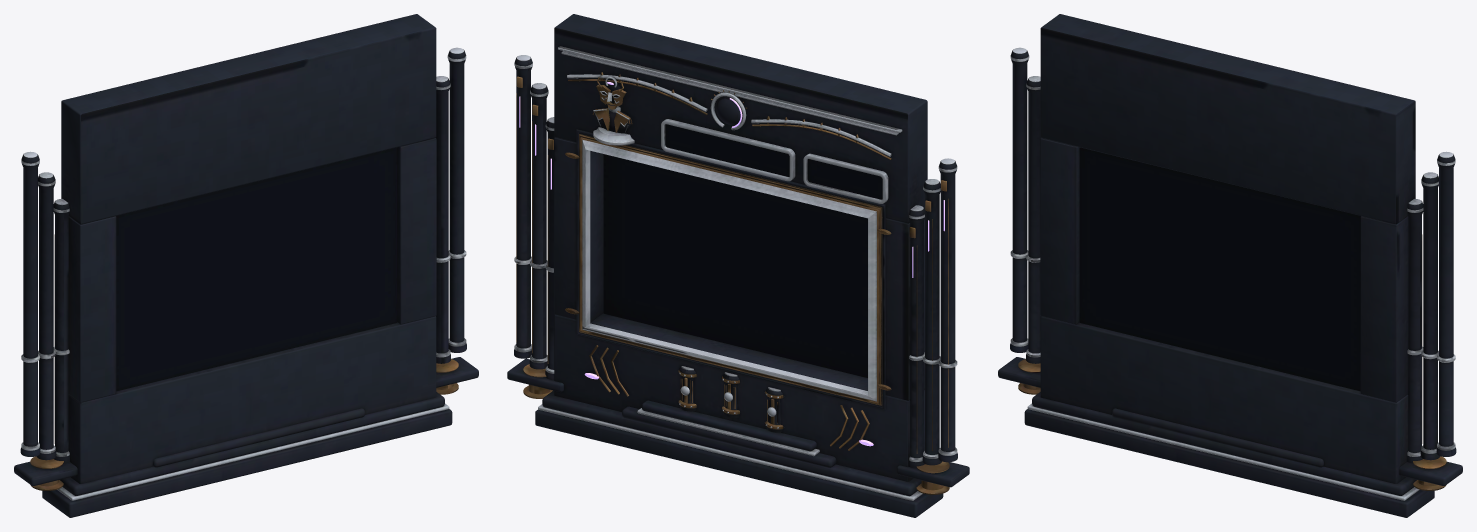
The picture shows the model from 3 angles, left to right: view 1: azimuth 30°, elevation 25°; view 2: azimuth 150°, elevation 25°; view 3: azimuth 330°, elevation 25°; orthographic projection.
Parts seen in each view (by area): view 1: Obsidian_enamel, Uniform_display_charcoal, Brushed_platinum, Chased_antique_brass; view 2: Obsidian_enamel, Uniform_display_charcoal, Brushed_platinum, Chased_antique_brass, Eclipse_violet_glow; view 3: Obsidian_enamel, Uniform_display_charcoal, Brushed_platinum, Chased_antique_brass.
Boxes of the visible parts, x1,y1,x2,y2 form: Obsidian_enamel: [14, 14, 478, 517]; Uniform_display_charcoal: [116, 147, 397, 391]; Brushed_platinum: [21, 47, 466, 500]; Chased_antique_brass: [30, 234, 458, 490]; Obsidian_enamel: [507, 14, 969, 517]; Uniform_display_charcoal: [602, 92, 882, 377]; Brushed_platinum: [514, 46, 957, 500]; Chased_antique_brass: [516, 72, 949, 494]; Eclipse_violet_glow: [519, 82, 944, 446]; Obsidian_enamel: [998, 14, 1462, 517]; Uniform_display_charcoal: [1079, 147, 1360, 391]; Brushed_platinum: [1010, 47, 1455, 500]; Chased_antique_brass: [1018, 234, 1446, 490].
Bounding box in the file's own units: 10.79 × 9.2 × 1.28.
Materials: 5 (4 with a texture image).
